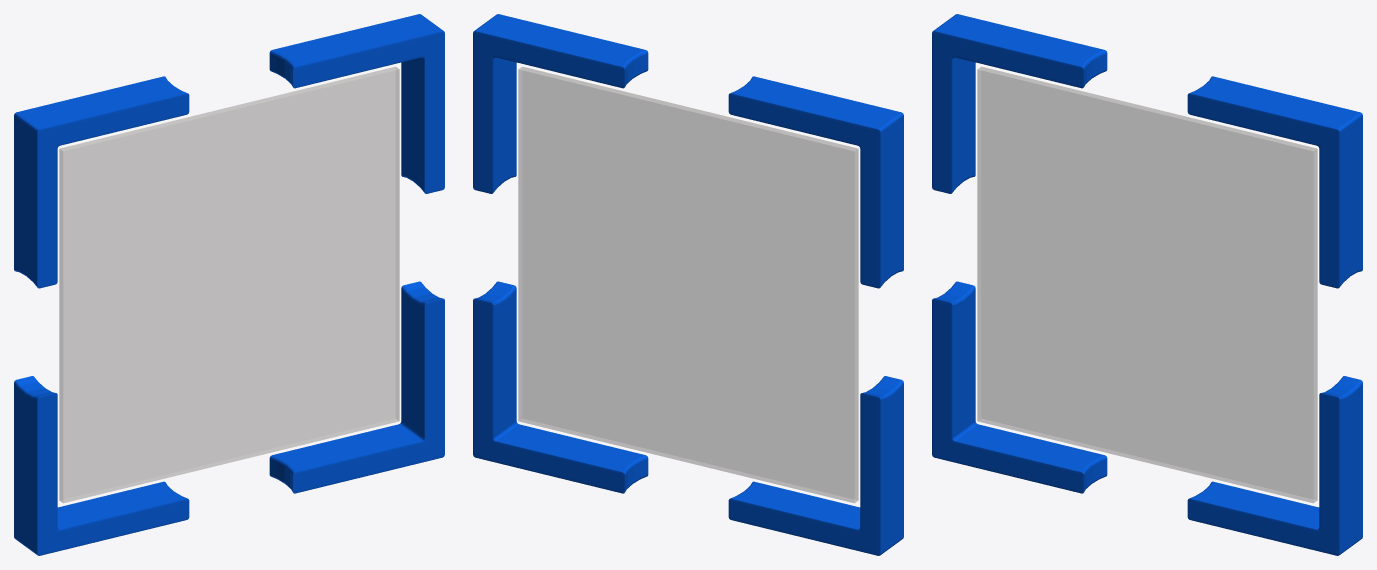
The model's file is mirrorBlue.gltf.
3 views of the same model, side by side, from view 1: azimuth 30°, elevation 25°; view 2: azimuth 150°, elevation 25°; view 3: azimuth 330°, elevation 25° (orthographic).
Visible parts, largest first — view 1: Cube.033, Cube.034; view 2: Cube.033, Cube.034; view 3: Cube.033, Cube.034.
Part boxes in pixels (x1,y1,x2,y2): Cube.033: (59,66,399,503); Cube.034: (14,14,444,555); Cube.033: (518,66,858,503); Cube.034: (473,14,903,555); Cube.033: (977,66,1317,503); Cube.034: (932,14,1362,555).
Size of what is drawn, in the model's own units: 2 by 2 by 0.2.
